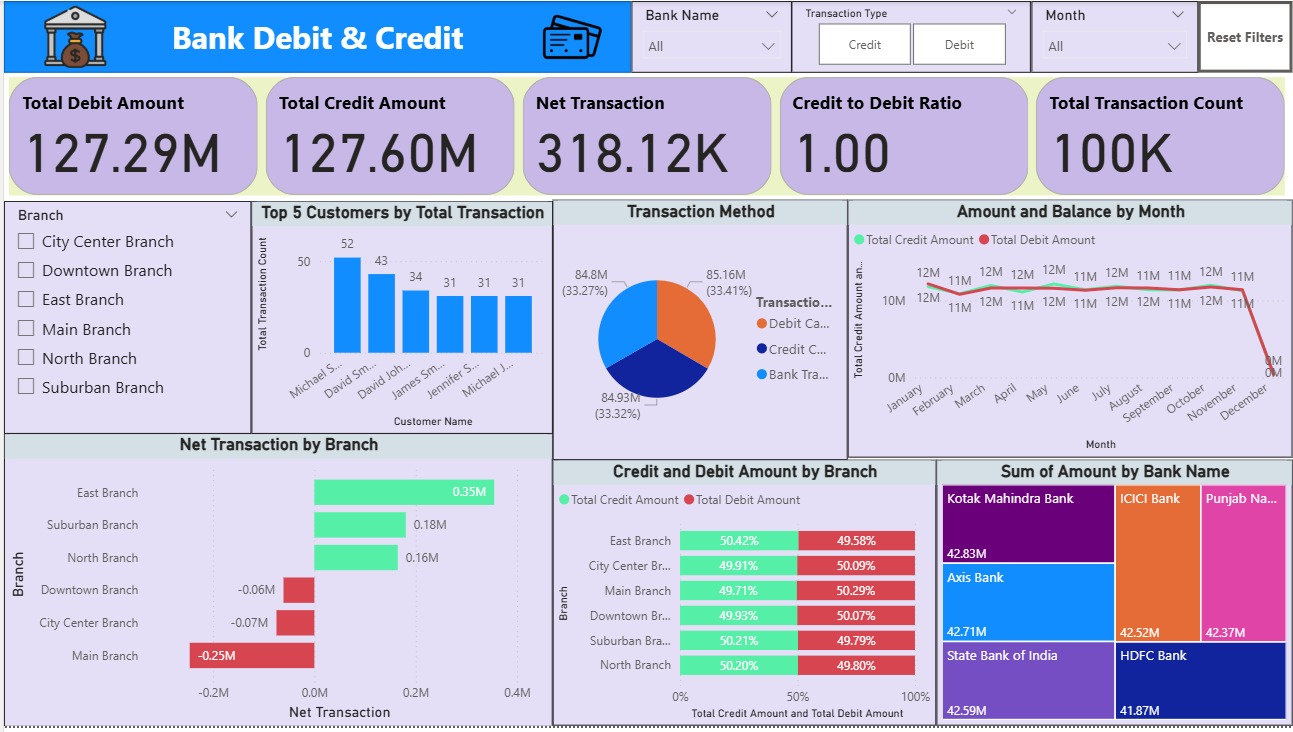

Layout of this report page (visuals, bound fields, positions):
{"tool":"powerbi","page":{"name":"Page 1","canvas":[1280,720],"ordinal":0},"visuals":[{"type":"cardVisual","fields":{"Data":["Debit and Credit Banking.Total Debit Amount","Debit and Credit Banking.Total Credit Amount","Debit and Credit Banking.Net Transaction","Debit and Credit Banking.Credit to Debit Ratio","Debit and Credit Banking.Total Transaction Count"]},"box":[0,71.2,1280,127.9],"z":0},{"type":"pieChart","title":"Transaction Method","fields":{"Category":["Debit and Credit Banking.Transaction Method"],"Y":["Debit and Credit Banking.Amount"]},"box":[544.9,197.4,292.9,258.2],"z":1000},{"type":"clusteredBarChart","fields":{"Category":["Debit and Credit Banking.Branch"],"Y":["Debit and Credit Banking.Net Transaction"]},"box":[0,429.5,544.8,290.9],"z":2000},{"type":"lineChart","title":"Amount and Balance by Month","fields":{"Category":["Debit and Credit Banking.Transaction Date.Variation.Date Hierarchy.Month"],"Y":["Debit and Credit Banking.Total Credit Amount","Debit and Credit Banking.Total Debit Amount"]},"box":[837.9,197.4,441.9,255.7],"z":3000},{"type":"hundredPercentStackedBarChart","title":"Credit and Debit Amount by Branch","fields":{"Category":["Debit and Credit Banking.Branch"],"Y":["Debit and Credit Banking.Total Credit Amount","Debit and Credit Banking.Total Debit Amount"]},"box":[544.9,455.6,381.1,264.4],"z":4000},{"type":"treemap","fields":{"Group":["Debit and Credit Banking.Bank Name"],"Values":["Debit and Credit Banking.Amount"]},"box":[926,455.6,353.8,264.4],"z":5000},{"type":"shape","box":[0,0,622.5,71.2],"z":6000},{"type":"slicer","fields":{"Values":["Debit and Credit Banking.Transaction Type"]},"box":[782.2,0,237.4,71.4],"z":7000},{"type":"slicer","fields":{"Values":["Debit and Credit Banking.Branch"]},"box":[0,198.6,245.8,230.9],"z":8000},{"type":"slicer","fields":{"Values":["Debit and Credit Banking.Transaction Date.Variation.Date Hierarchy.Month"]},"box":[1020.6,0,165.3,71.2],"z":9000},{"type":"slicer","fields":{"Values":["Debit and Credit Banking.Bank Name"]},"box":[622.5,0,159.3,71.2],"z":10000},{"type":"columnChart","title":"Top 5 Customers by Total Transaction","fields":{"Category":["Debit and Credit Banking.Customer Name"],"Y":["Debit and Credit Banking.Total Transaction Count"]},"box":[245.8,198.6,299.2,230.9],"z":11000},{"type":"image","box":[0,0,142.4,71.2],"z":12000},{"type":"image","box":[506.7,0,115.8,71.2],"z":13000},{"type":"actionButton","box":[1185.9,0,94.1,71.2],"z":14000}]}

Visuals, with their boxes in screenshot pixels (x1, y1, x2, y2), scaled from the page's 1280x720 canvas onto the 1293x732 screenshot:
cardVisual - Debit and Credit Banking.Total Debit Amount x Debit and Credit Banking.Total Credit Amount: 0:72:1292:202
"Transaction Method" pieChart: 550:201:846:463
clusteredBarChart - Debit and Credit Banking.Branch x Debit and Credit Banking.Net Transaction: 0:437:550:731
"Amount and Balance by Month" lineChart: 846:201:1292:461
"Credit and Debit Amount by Branch" hundredPercentStackedBarChart: 550:463:935:731
treemap - Debit and Credit Banking.Bank Name x Debit and Credit Banking.Amount: 935:463:1292:731
shape: 0:0:629:72
slicer - Debit and Credit Banking.Transaction Type: 790:0:1030:73
slicer - Debit and Credit Banking.Branch: 0:202:248:437
slicer - Debit and Credit Banking.Transaction Date.Variation.Date Hierarchy.Month: 1031:0:1198:72
slicer - Debit and Credit Banking.Bank Name: 629:0:790:72
"Top 5 Customers by Total Transaction" columnChart: 248:202:551:437
image: 0:0:144:72
image: 512:0:629:72
actionButton: 1198:0:1292:72
